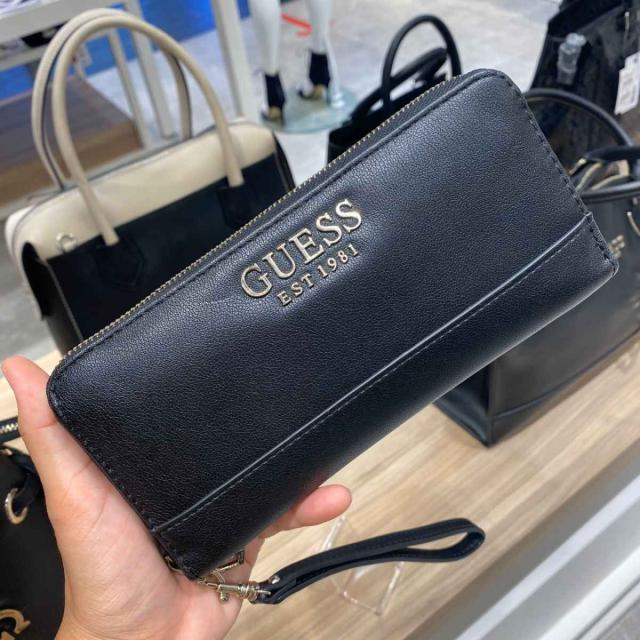Handbag: (42, 60, 640, 588)
